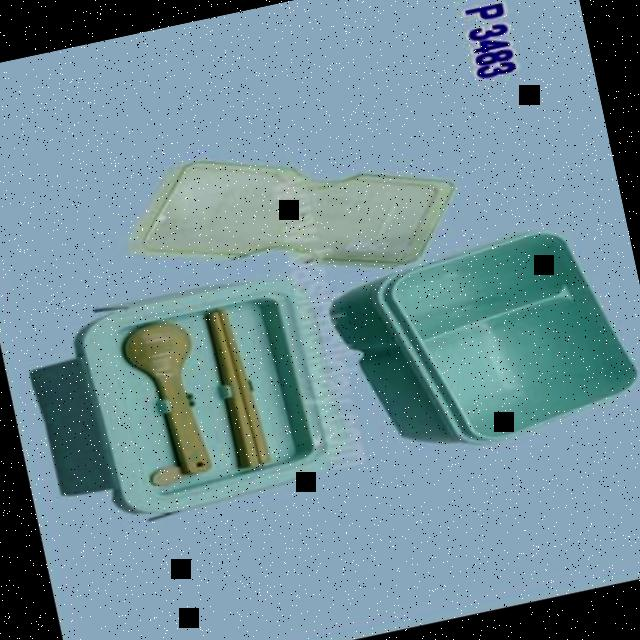plastic_box: (321, 214, 640, 470)
